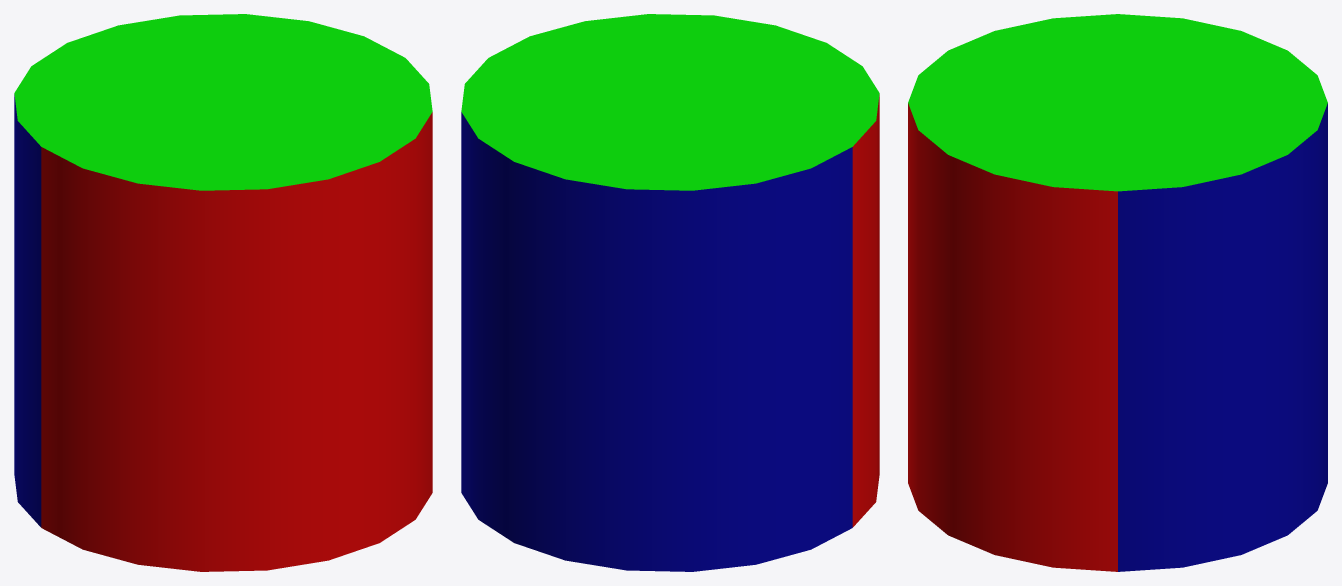
File: color_primitive_Cylinder.fbx
3 views of the same model, side by side, from view 1: azimuth 30°, elevation 25°; view 2: azimuth 150°, elevation 25°; view 3: azimuth 270°, elevation 25° (orthographic).
Parts seen in each view (by area): view 1: pCylinder2; view 2: pCylinder2; view 3: pCylinder2.
Boxes of the visible parts, x1,y1,x2,y2 form: pCylinder2: [14, 14, 432, 571]; pCylinder2: [461, 14, 879, 571]; pCylinder2: [908, 14, 1327, 571].
Bounding box in the file's own units: 7.5 × 7.5 × 7.5.
